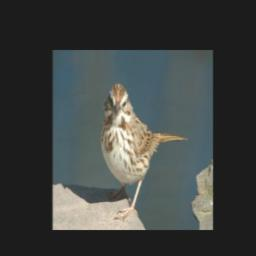Sparrow: (100, 82, 188, 219)
